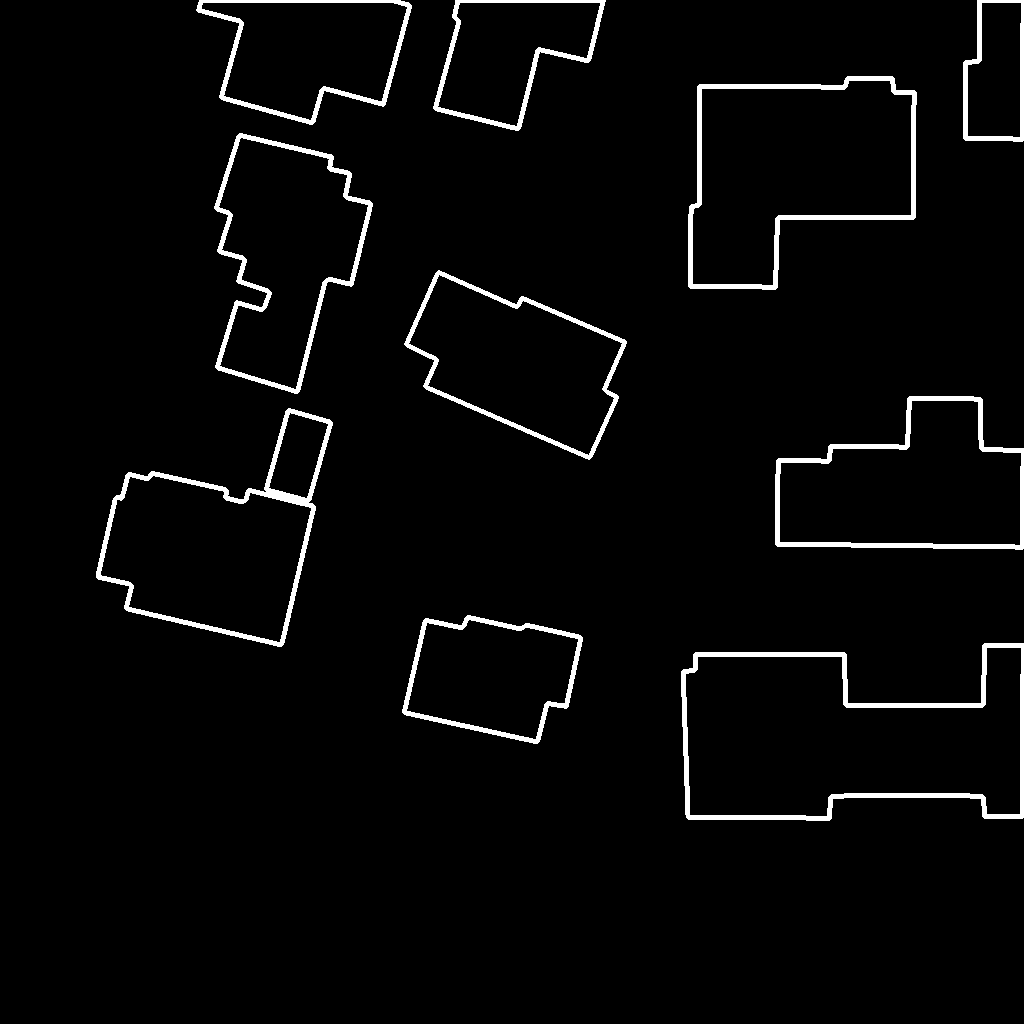building: (690, 78, 915, 288), (406, 272, 626, 459), (216, 135, 372, 393), (98, 473, 315, 646), (777, 398, 1024, 548), (683, 654, 907, 819), (198, 0, 411, 124), (404, 617, 582, 743), (435, 0, 605, 130), (907, 645, 1024, 817), (965, 0, 1024, 140), (266, 410, 332, 502)
